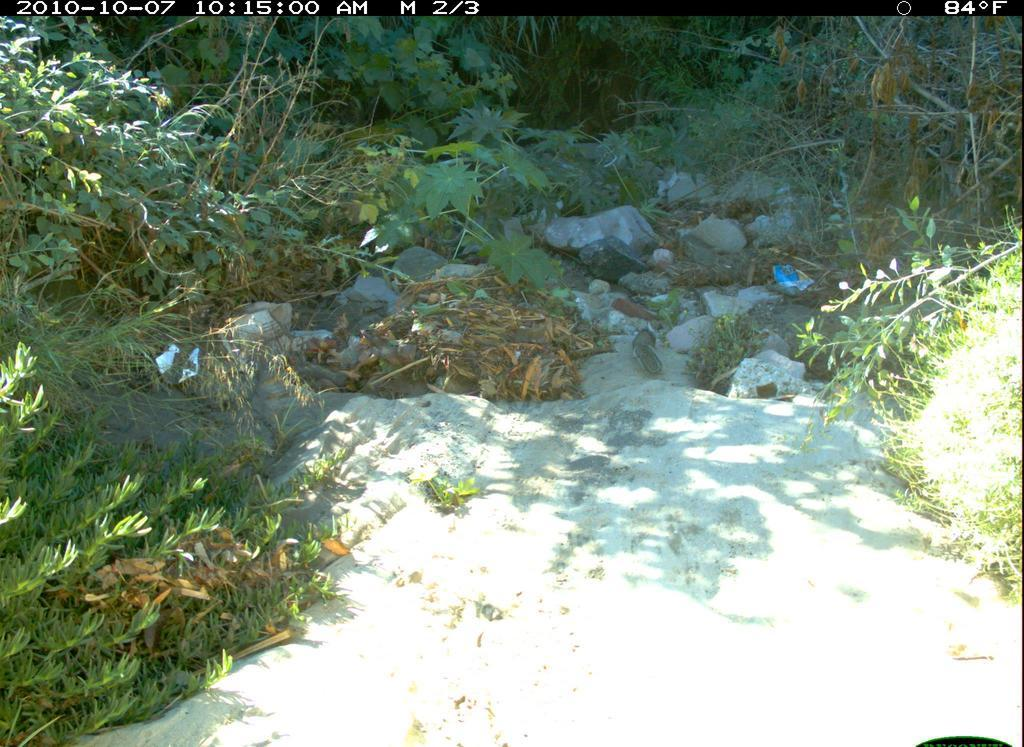squirrel: (621, 314, 685, 379)
